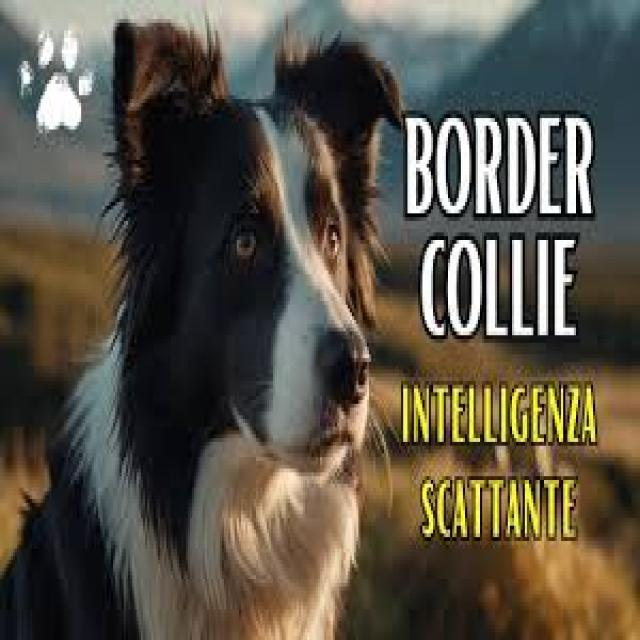ALASKAN_MALAMUTE: (2, 25, 405, 640)
